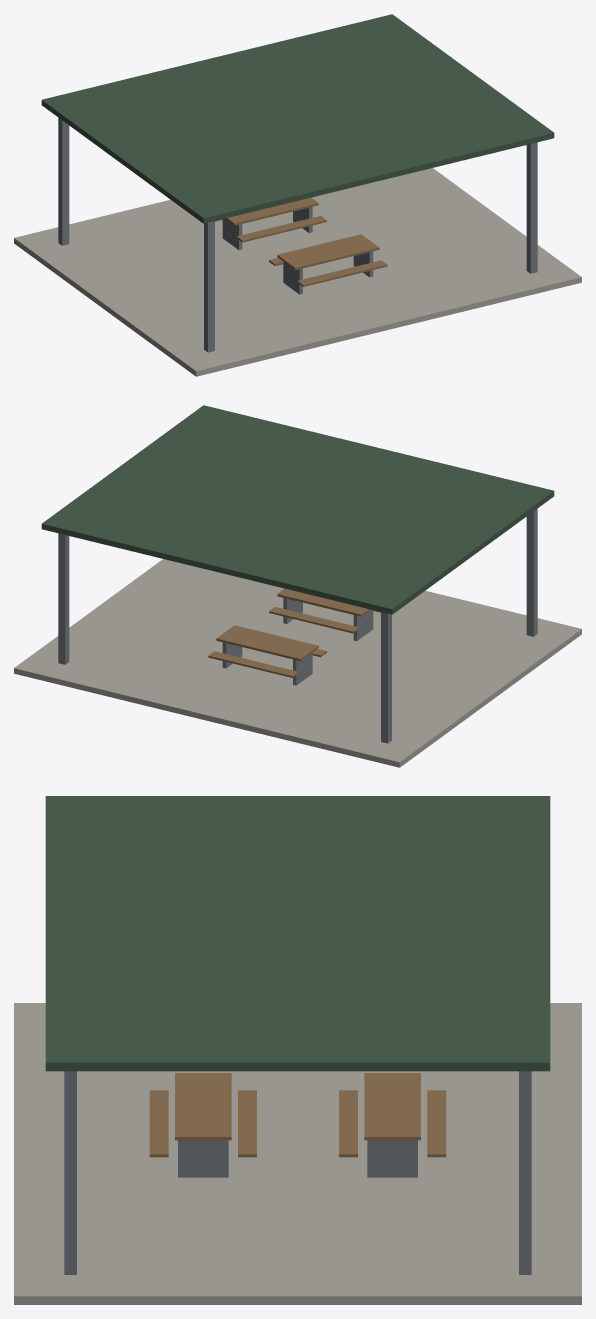
Rendered from tf_park_shelter_10x8.glb.
3 views of the same model, one above another, from view 1: azimuth 30°, elevation 25°; view 2: azimuth 150°, elevation 25°; view 3: azimuth 270°, elevation 25° (orthographic). The views are drawn at different scales.
Visible parts, largest first — view 1: tf_park_shelter_10x8; view 2: tf_park_shelter_10x8; view 3: tf_park_shelter_10x8.
Boxes of the visible parts, x1,y1,x2,y2 form: tf_park_shelter_10x8: (14, 14, 581, 376); tf_park_shelter_10x8: (14, 405, 581, 767); tf_park_shelter_10x8: (14, 796, 581, 1304).
Size of what is drawn, in the model's own units: 11 by 4 by 9.
